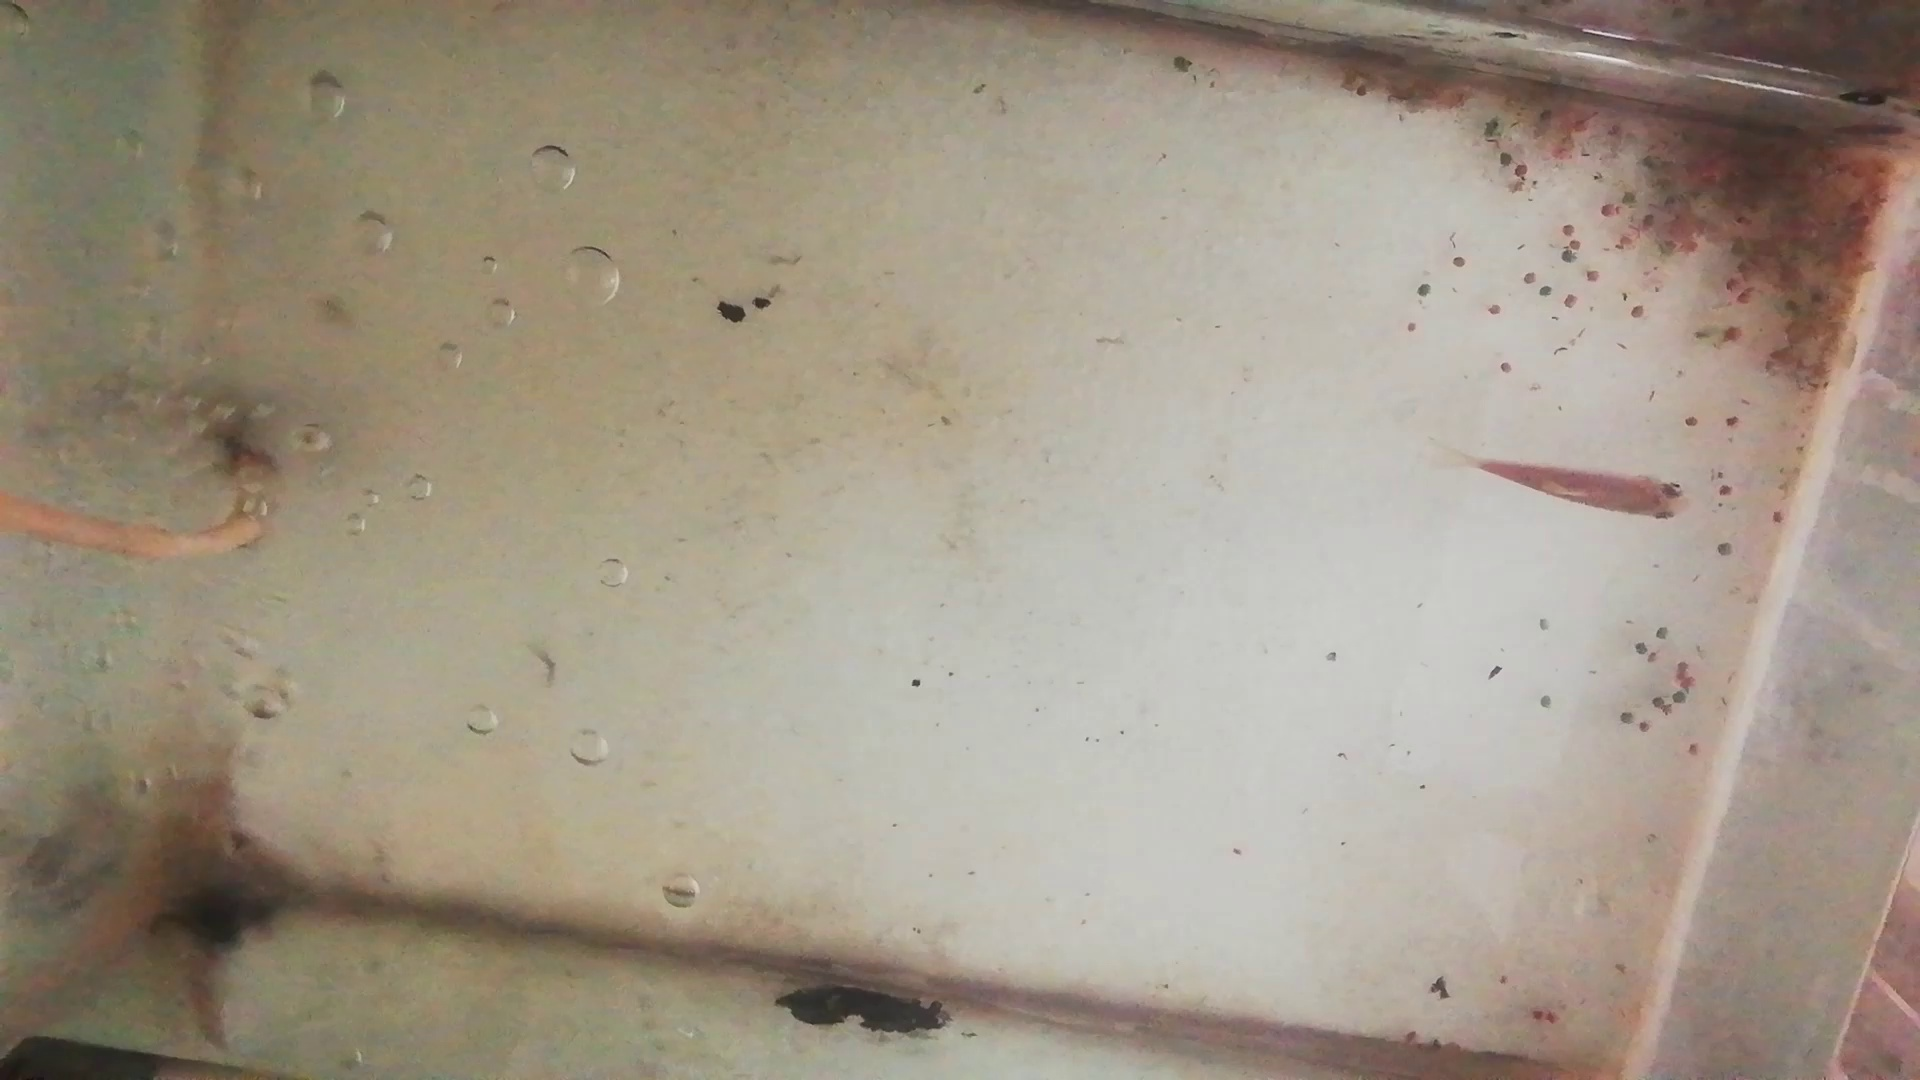fish: (1478, 451, 1685, 527), (191, 724, 239, 881)
